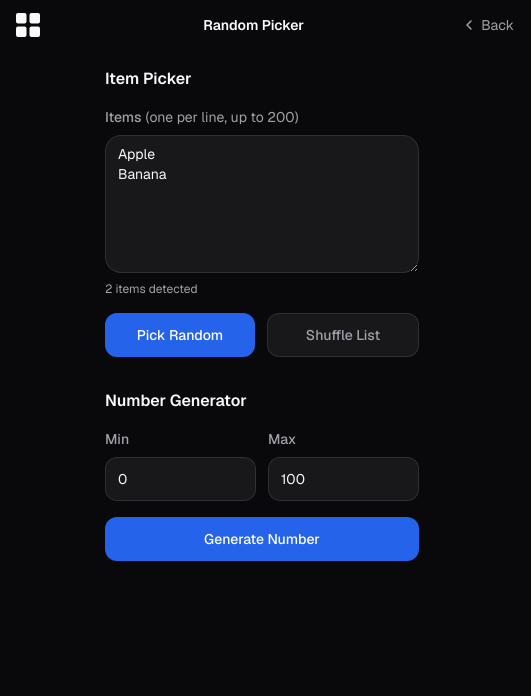
Test: RandomPickerTool › reroll button › is present after a pick result is shown
This screenshot has width=531, height=696.
Click the button with aria-label "pick a random item". click: (180, 335)
box: [105,313,255,357]
(page scrolled)
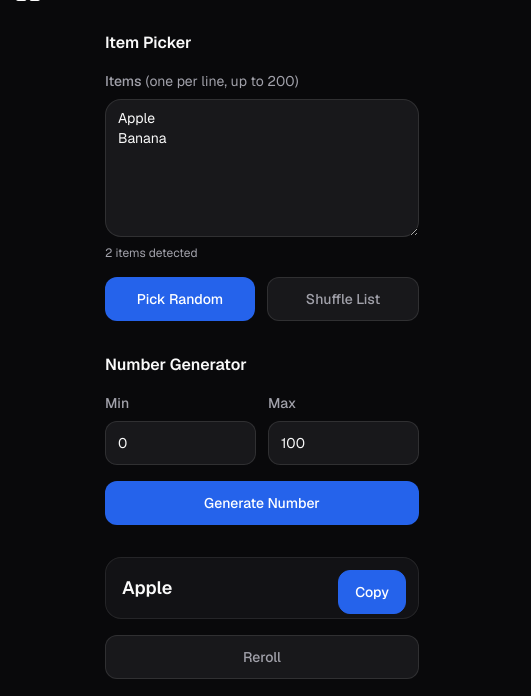
Now the button "Reroll" is shown, box [105,635,419,679]
